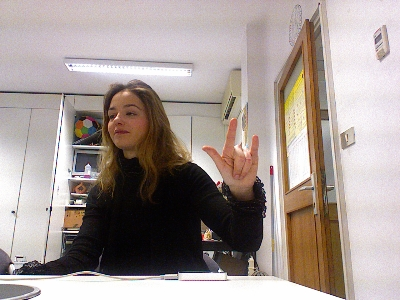我爱你: (201, 116, 260, 192)
